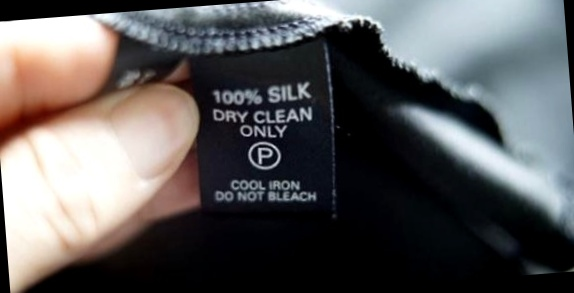dry_clean_any_solvent_except_trichloroethylene: (247, 138, 284, 171)
